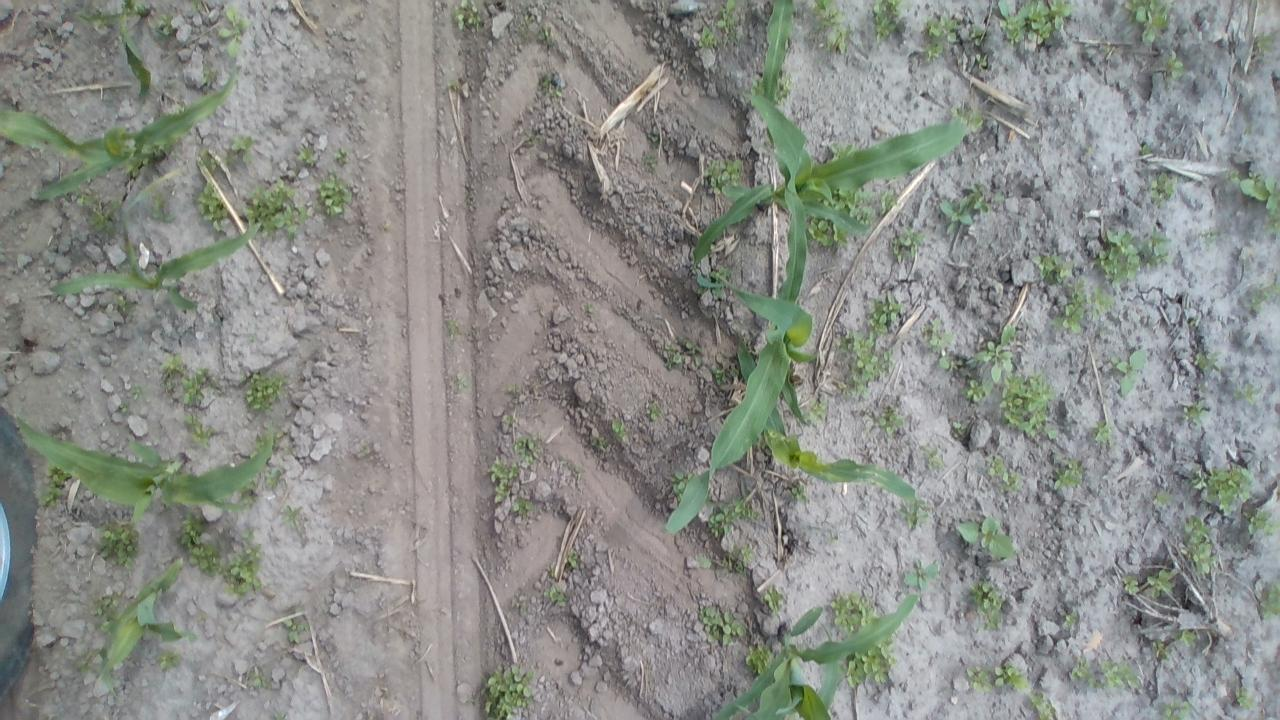Maize: (660, 152, 824, 536), (693, 96, 969, 289), (0, 61, 240, 200), (738, 344, 916, 527), (15, 413, 276, 532), (46, 171, 262, 312), (712, 596, 919, 720), (84, 558, 198, 700), (80, 1, 156, 101), (762, 0, 789, 101)
Weeds: (1002, 374, 1063, 439), (478, 662, 534, 720), (840, 331, 894, 391), (1193, 464, 1253, 516), (182, 369, 218, 447), (1096, 226, 1141, 283), (958, 516, 1012, 559), (974, 328, 1016, 383), (1180, 517, 1216, 574), (222, 543, 260, 594), (266, 182, 304, 231), (186, 518, 218, 576), (245, 368, 288, 410), (96, 524, 139, 566), (78, 198, 118, 239), (318, 172, 355, 214), (1137, 1, 1170, 46), (1242, 175, 1278, 216), (196, 186, 229, 230), (709, 500, 748, 536), (1242, 274, 1277, 314), (1118, 348, 1146, 398), (220, 13, 252, 56), (706, 158, 742, 192), (1024, 1, 1052, 44), (491, 456, 517, 502), (871, 298, 906, 332), (998, 1, 1028, 40), (850, 658, 884, 692), (966, 178, 1004, 208), (1088, 658, 1135, 682), (939, 198, 972, 232), (902, 558, 940, 586), (1054, 456, 1082, 492), (874, 0, 898, 41), (890, 232, 926, 258), (1032, 253, 1068, 279), (1245, 508, 1276, 538), (720, 612, 746, 646), (454, 2, 482, 32), (1146, 230, 1172, 262), (927, 318, 953, 350), (41, 470, 64, 506), (1180, 398, 1208, 427), (1144, 570, 1175, 596), (1028, 688, 1056, 716), (1259, 582, 1279, 620), (896, 505, 926, 530), (974, 582, 1000, 610), (724, 546, 754, 570), (838, 603, 868, 627), (278, 505, 304, 532), (1147, 173, 1173, 200), (929, 16, 955, 42), (994, 662, 1022, 686), (828, 24, 851, 52), (1062, 303, 1085, 331), (920, 444, 944, 470), (815, 0, 839, 26), (1160, 53, 1184, 79), (296, 146, 322, 168), (874, 646, 894, 674), (717, 0, 735, 30), (1051, 1, 1071, 28), (1066, 279, 1088, 303), (1192, 352, 1216, 374), (881, 414, 905, 436), (284, 616, 304, 642), (517, 438, 543, 458), (151, 199, 173, 222), (1239, 379, 1262, 401), (242, 195, 266, 216), (811, 222, 832, 246), (761, 586, 782, 608), (700, 274, 720, 297), (544, 584, 564, 607), (965, 378, 984, 402), (1162, 701, 1186, 720), (96, 595, 118, 615), (233, 134, 255, 154), (1092, 290, 1114, 310), (832, 592, 852, 614), (1195, 229, 1224, 244), (985, 458, 1006, 478), (702, 604, 718, 630), (878, 192, 898, 212), (1004, 475, 1025, 494), (695, 546, 713, 568), (1060, 608, 1082, 626), (747, 642, 765, 664), (965, 666, 989, 682), (939, 352, 958, 372), (922, 41, 944, 58), (165, 358, 185, 376), (156, 652, 178, 668), (1233, 686, 1250, 706), (789, 479, 803, 503), (668, 468, 682, 492), (1153, 490, 1171, 508), (664, 350, 680, 370), (1068, 662, 1084, 682), (613, 418, 626, 442), (158, 16, 174, 35), (510, 498, 530, 513), (984, 608, 999, 628), (699, 26, 713, 47), (716, 367, 730, 387), (1152, 640, 1166, 660), (1124, 575, 1138, 595), (334, 146, 348, 165), (813, 400, 827, 419), (646, 402, 661, 419), (952, 418, 964, 439), (183, 626, 196, 644), (568, 549, 580, 568), (1096, 426, 1110, 441), (118, 296, 130, 312), (973, 55, 989, 67), (1184, 630, 1196, 646), (132, 386, 140, 401)
